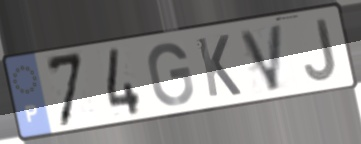4: (105, 45, 144, 119)
7: (45, 50, 88, 132)
G: (145, 40, 196, 108)
J: (302, 16, 339, 84)
K: (194, 32, 244, 100)
V: (236, 20, 286, 94)
